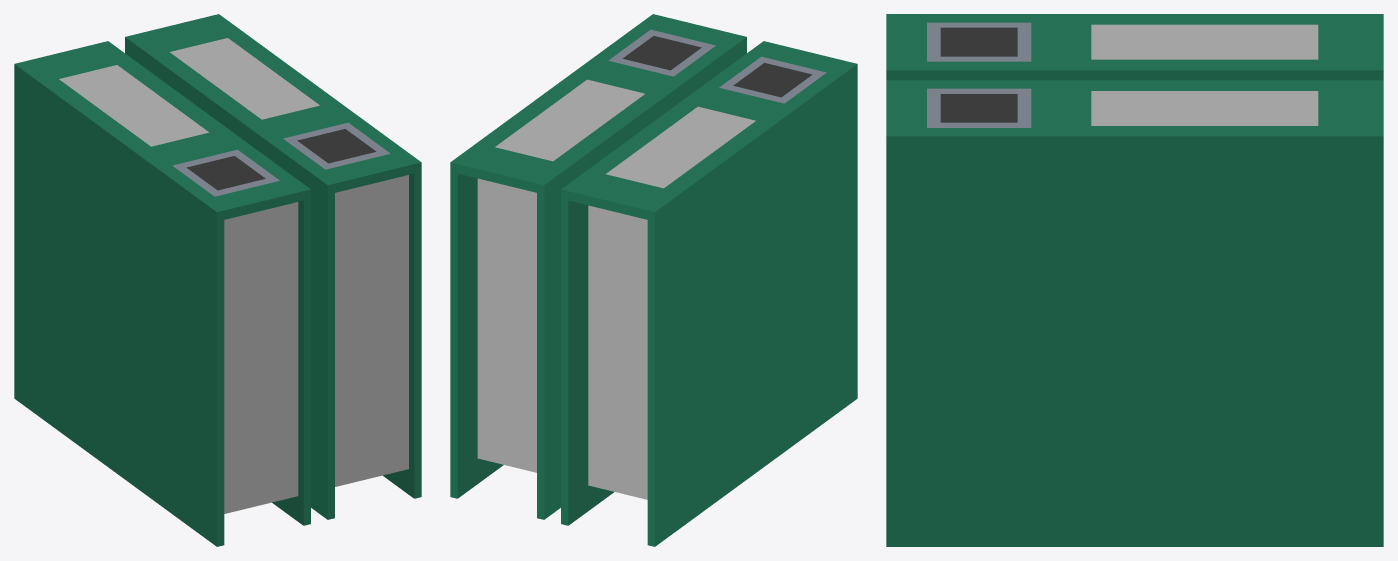
File: BoxFile3.glb
3 views of the same model, side by side, from view 1: azimuth 30°, elevation 25°; view 2: azimuth 150°, elevation 25°; view 3: azimuth 270°, elevation 25° (orthographic). The views are drawn at different scales.
Visible parts, largest first — view 1: SO_Boxfile_04; view 2: SO_Boxfile_04; view 3: SO_Boxfile_04.
Part boxes in pixels (x1,y1,x2,y2): SO_Boxfile_04: (14, 14, 421, 546); SO_Boxfile_04: (450, 14, 857, 546); SO_Boxfile_04: (886, 14, 1383, 546).
Bounding box in the file's own units: 0.3804 × 0.5946 × 0.6529.
Materials: 1 (1 with a texture image).
